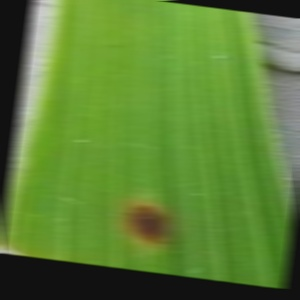Bacterial_Leaf_Blight: (114, 192, 176, 260)
